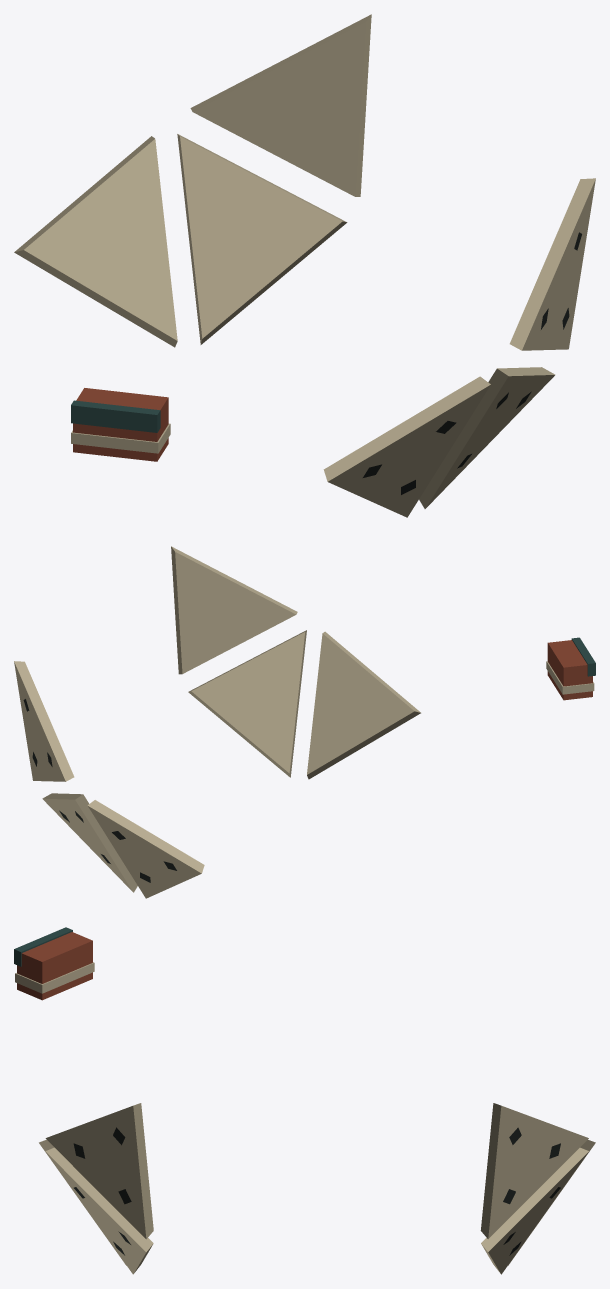
File: shell_kest_c4.glb
The picture shows the model from 3 angles, top to bottom: view 1: azimuth 30°, elevation 25°; view 2: azimuth 150°, elevation 25°; view 3: azimuth 270°, elevation 25°; orthographic projection. The views are drawn at different scales.
Parts seen in each view (by area): view 1: Pod; view 2: Pod; view 3: Pod.
Part boxes in pixels (x1,y1,x2,y2): Pod: (14,14,595,517); Pod: (14,546,595,898); Pod: (14,927,595,1274).
Bounding box in the file's own units: 1.65 × 0.8056 × 1.79.
